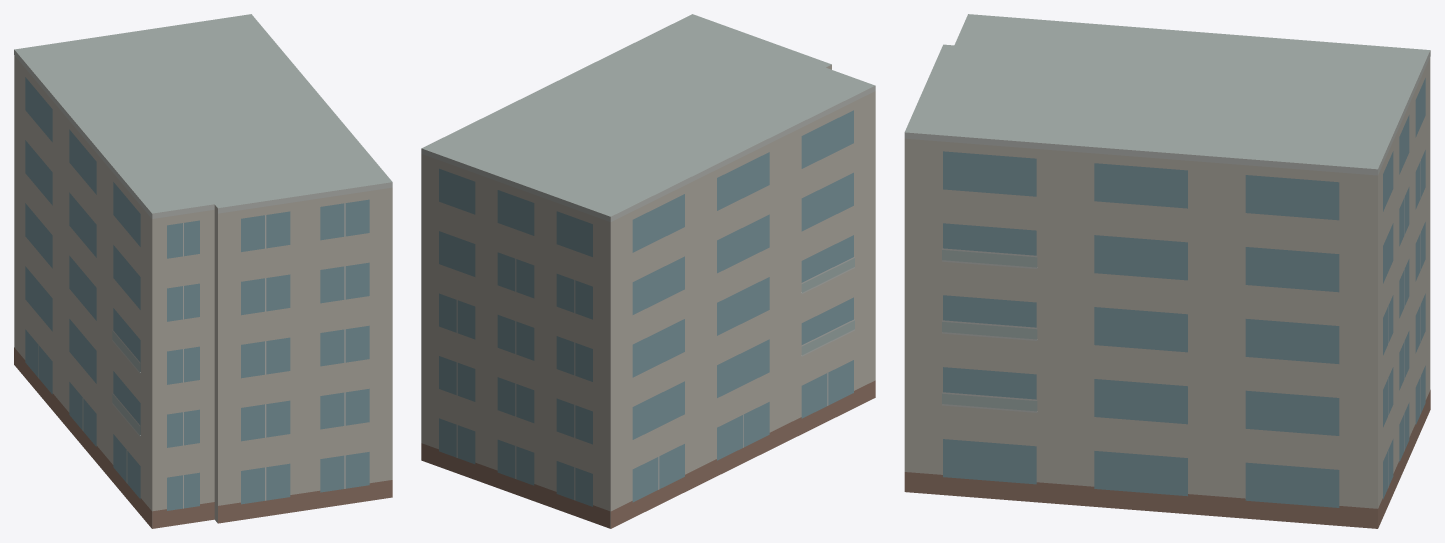
The model's file is survey-upis-33025755.glb.
The picture shows the model from 3 angles, left to right: view 1: azimuth 30°, elevation 25°; view 2: azimuth 150°, elevation 25°; view 3: azimuth 270°, elevation 25°; orthographic projection. The views are drawn at different scales.
Parts seen in each view (by area): view 1: survey-upis-33025755.tmp; view 2: survey-upis-33025755.tmp; view 3: survey-upis-33025755.tmp.
Part boxes in pixels (box(x1,y1,x2,y2)): survey-upis-33025755.tmp: box(14, 14, 392, 528); survey-upis-33025755.tmp: box(421, 14, 875, 528); survey-upis-33025755.tmp: box(904, 14, 1430, 528).
Size of the model in its own units: 13.07 by 14.1 by 18.7.
